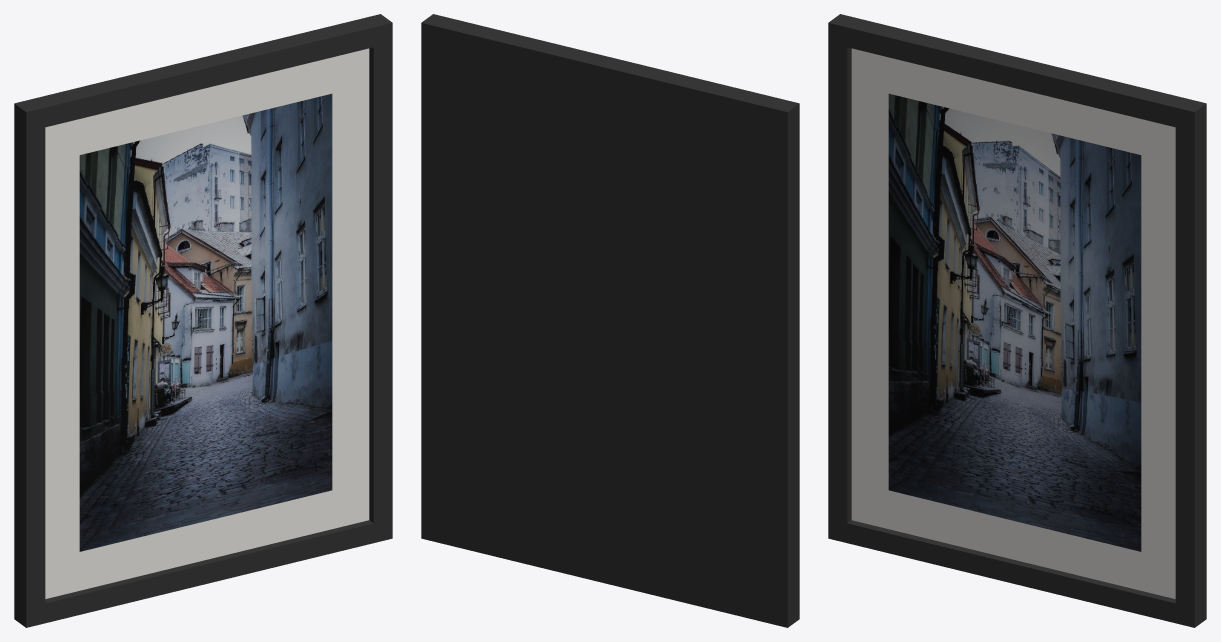
Rendered from granden-40.gltf.
3 views of the same model, side by side, from view 1: azimuth 30°, elevation 25°; view 2: azimuth 150°, elevation 25°; view 3: azimuth 330°, elevation 25° (orthographic).
Visible parts, largest first — view 1: tavla; view 2: tavla; view 3: tavla.
Part boxes in pixels (box(x1,y1,x2,y2)): tavla: box(14, 14, 392, 627); tavla: box(421, 14, 799, 627); tavla: box(828, 14, 1206, 627).
Bounding box in the file's own units: 0.3867 × 0.52 × 0.022.
3 materials, 1 textured.
